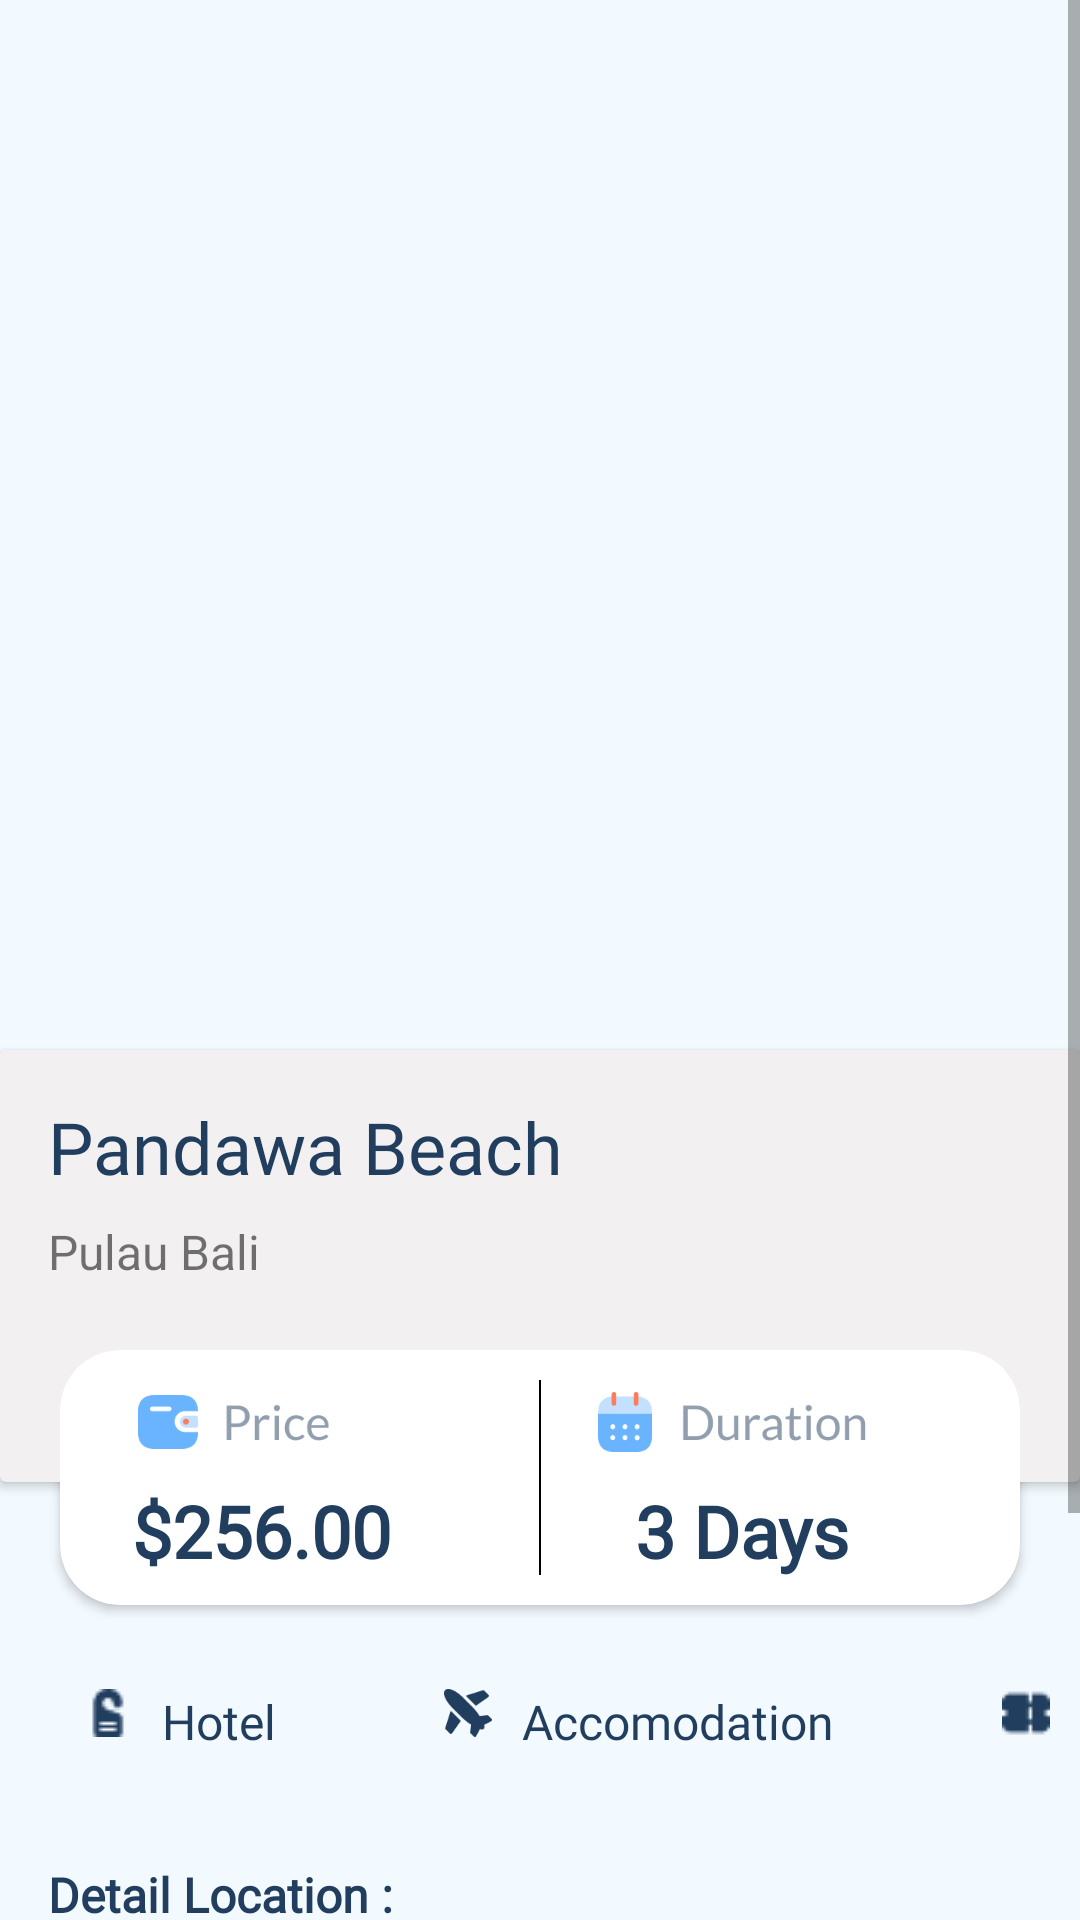

Named icons in this screenshot (1080*1920) and their bounding boxes, bbox=[x1, y1, x2, y2]:
plane: bbox=[444, 1689, 492, 1737]
ticket: bbox=[1002, 1691, 1050, 1735]
